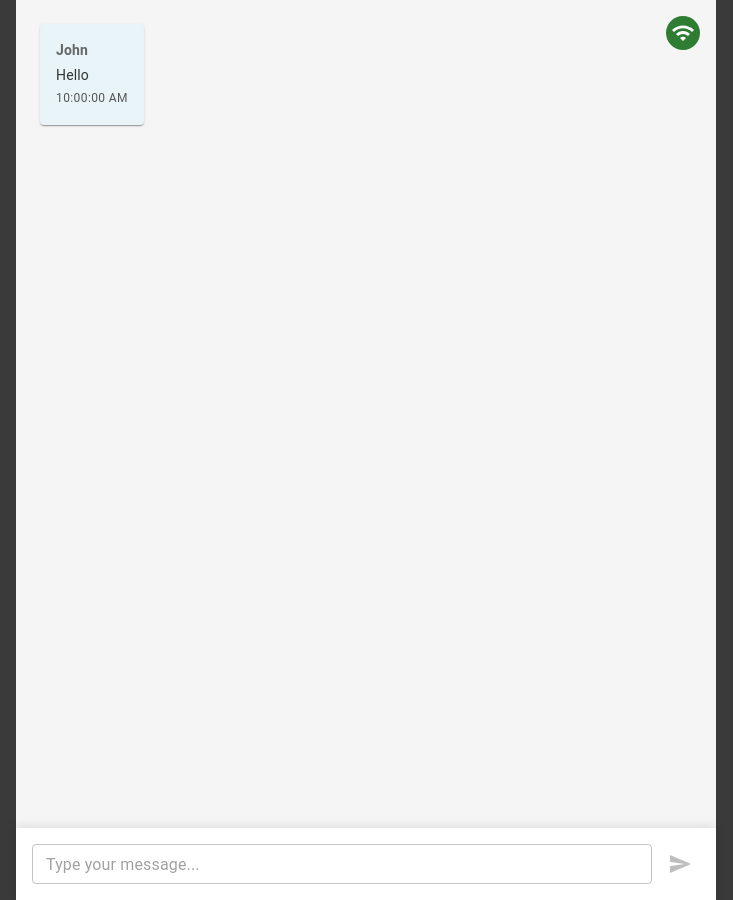
Test case: ChatPage › enables send button when input has text
expect the button named "send message" is disabled: met, box [660,844,700,884]
Type "Test message" into the text box with placeholder "Type your message...".
click(342, 864); type("Test message")  # box [46,852,638,876]
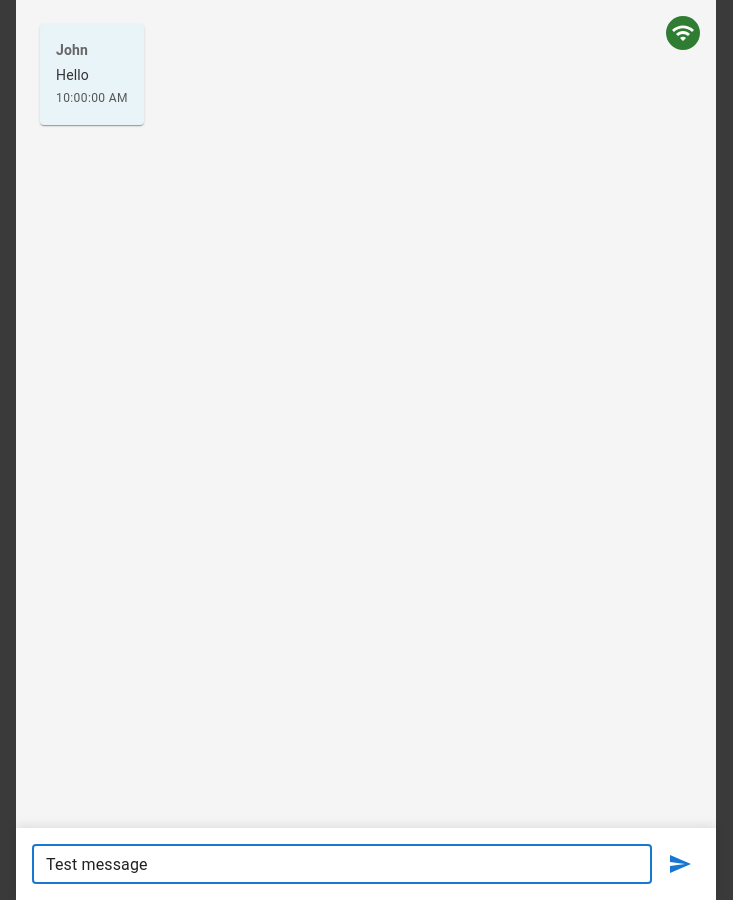
expect the button named "send message" is enabled: met, box [660,844,700,884]
